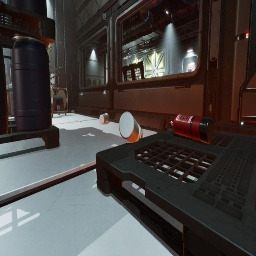0: (119, 111, 142, 143), (99, 113, 109, 124)
FireExtinguisher ]: (164, 114, 214, 144)
